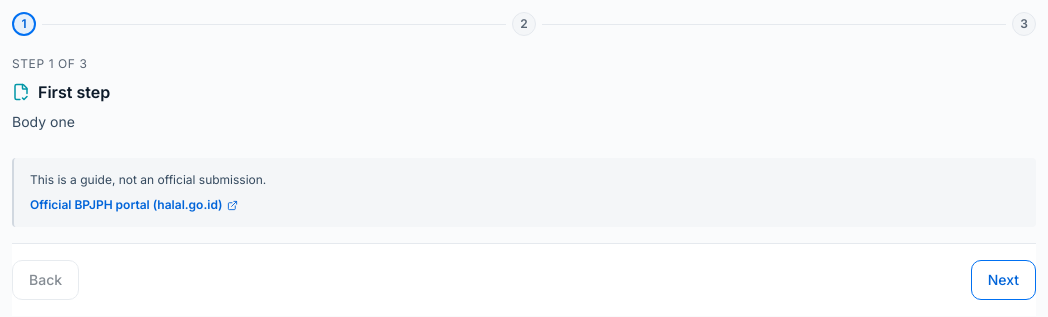
Test case: GuidedLesson — read-only stepped guidance › Next advances through steps and Back returns
Click the button "Next": (1003,280) [971,260,1036,300]
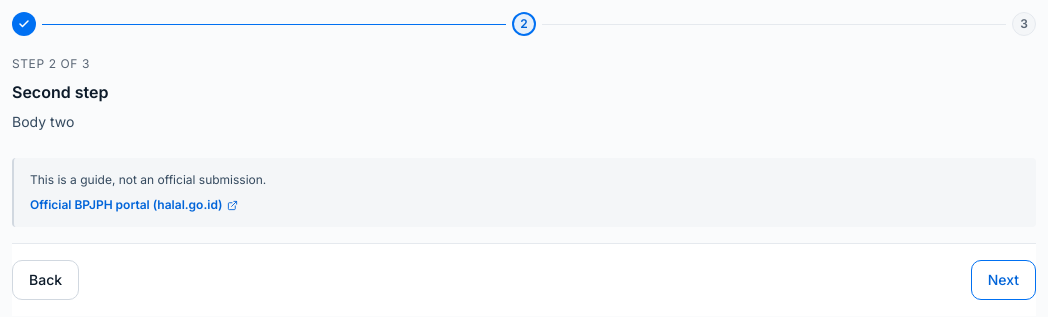
Check: the heading "Second step" is shown, box [12,82,108,102]
Check: the button "Back" is enabled
Click the button "Back": (46,280) [12,260,79,300]
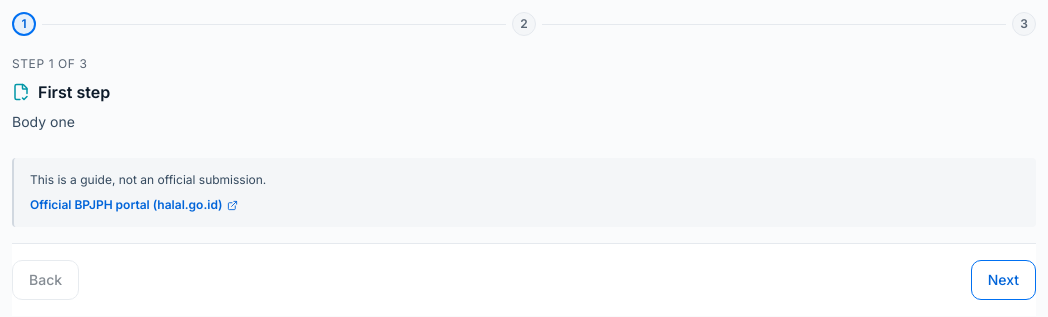
Check: the heading "First step" is shown, box [12,82,110,102]
